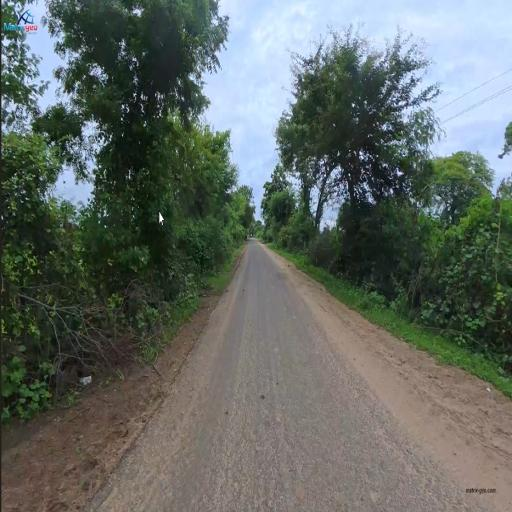longitudinal_crack: (199, 392, 334, 484)
